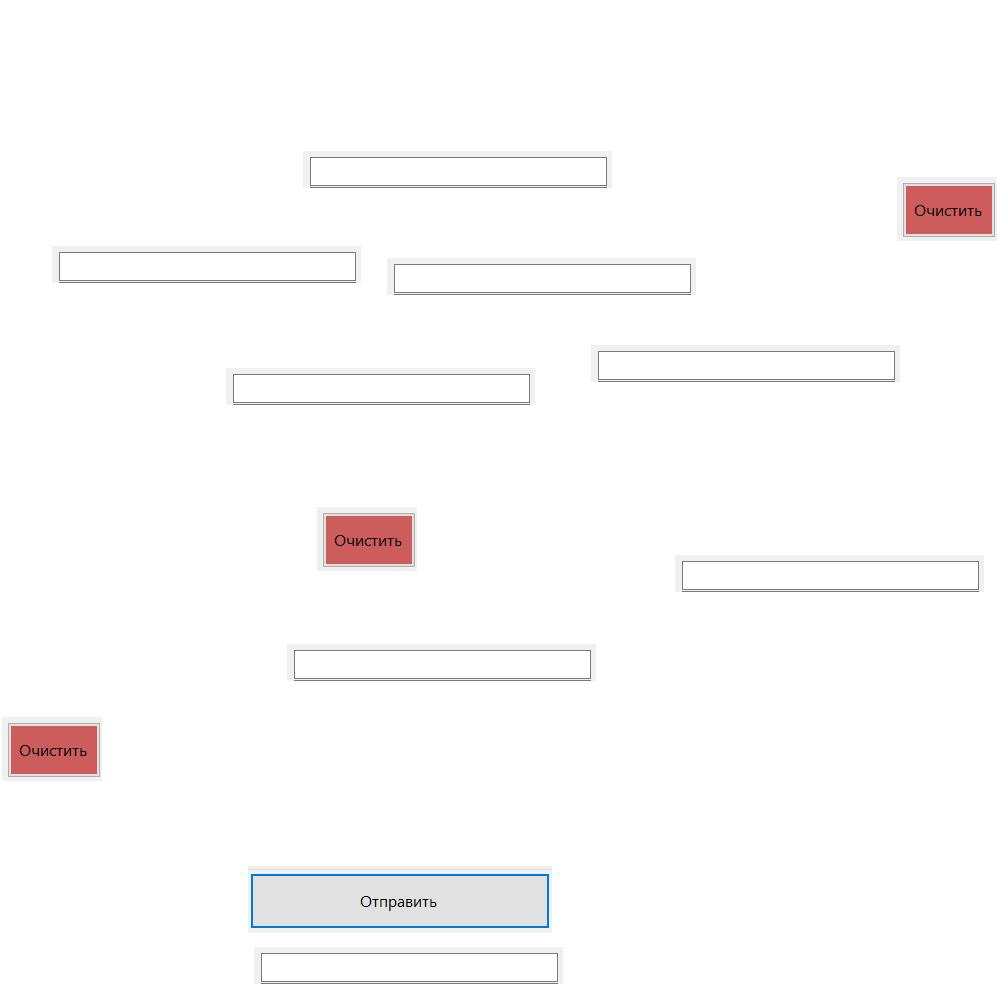Button: (248, 866, 552, 933), (317, 507, 417, 571), (897, 177, 997, 241), (2, 717, 102, 781)
EditText-: (303, 151, 612, 188), (591, 345, 900, 382), (254, 947, 563, 984), (52, 246, 361, 283), (226, 368, 535, 405), (287, 644, 596, 681), (675, 555, 984, 592), (387, 258, 696, 295)
